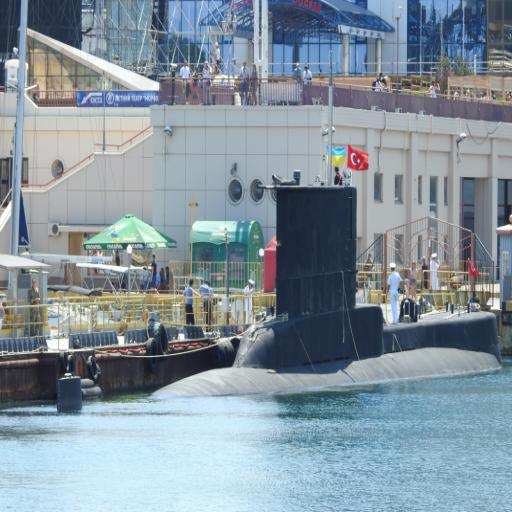submarine: (147, 180, 512, 402)
